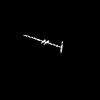treble_crochet: (32, 37, 62, 51)
